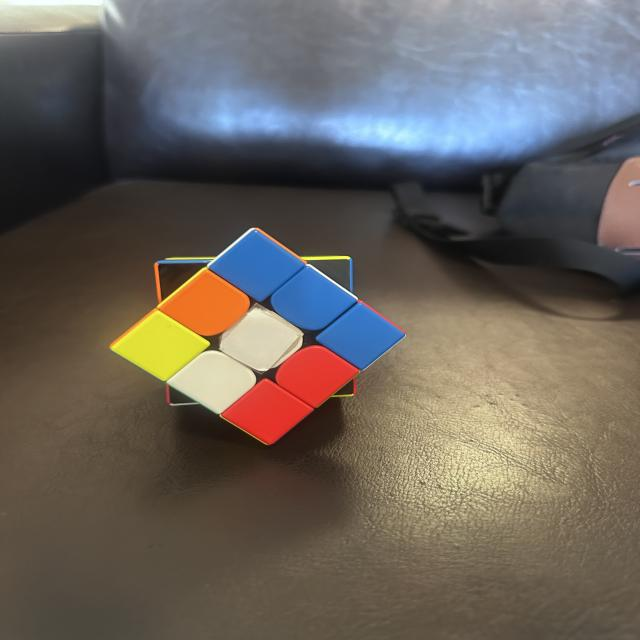sticker: (109, 309, 210, 382), (209, 229, 303, 303), (218, 375, 314, 446), (159, 267, 252, 336), (316, 299, 405, 370), (218, 304, 308, 374), (166, 350, 257, 415), (270, 265, 357, 330), (273, 344, 359, 409)
